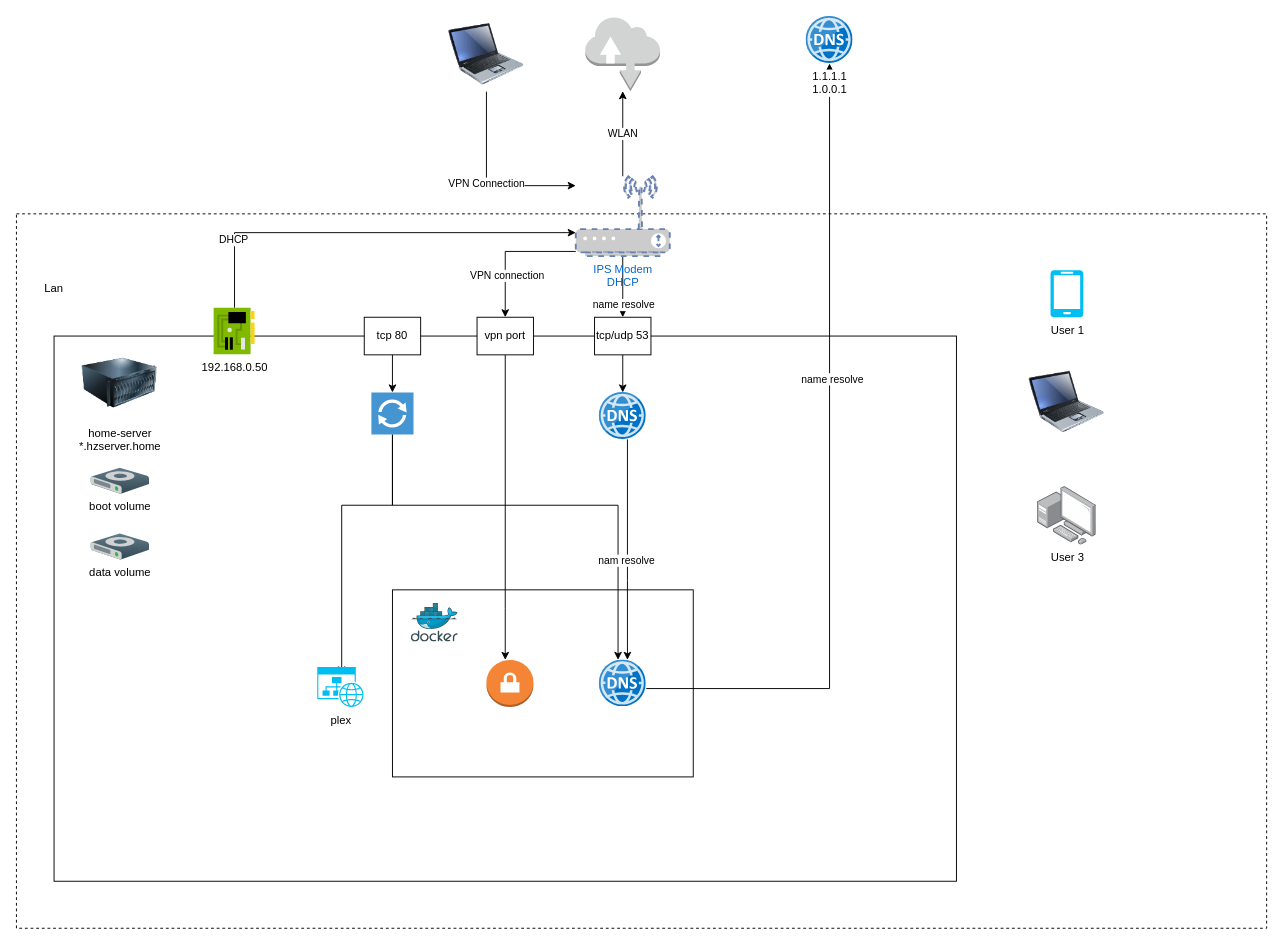
Image size: 1283x945. Some labels were removed from this diagram. Each missing label, with the box of its shape:
bind DNS: (599, 392, 646, 439)
Nginx reverse proxy: (371, 392, 413, 434)
Offsite User: (448, 16, 524, 91)
OpenVPN Server: (486, 659, 533, 707)
pihole: (599, 659, 646, 706)
User 2: (1029, 364, 1104, 439)
